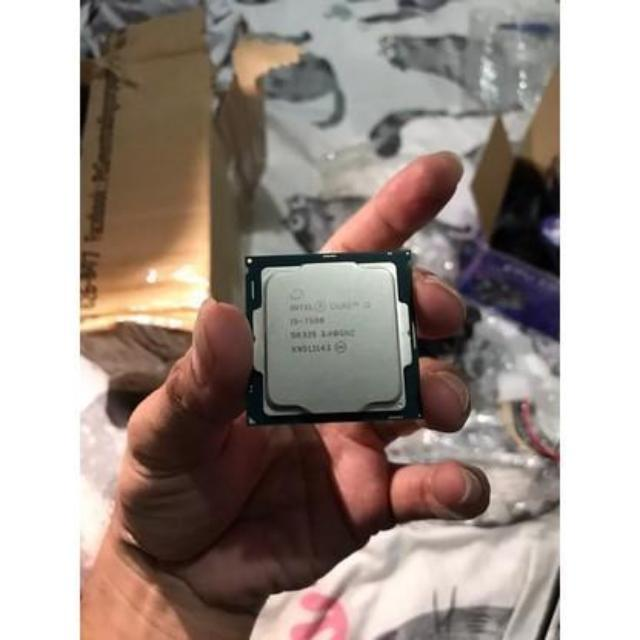CPU: (247, 254, 418, 417)
